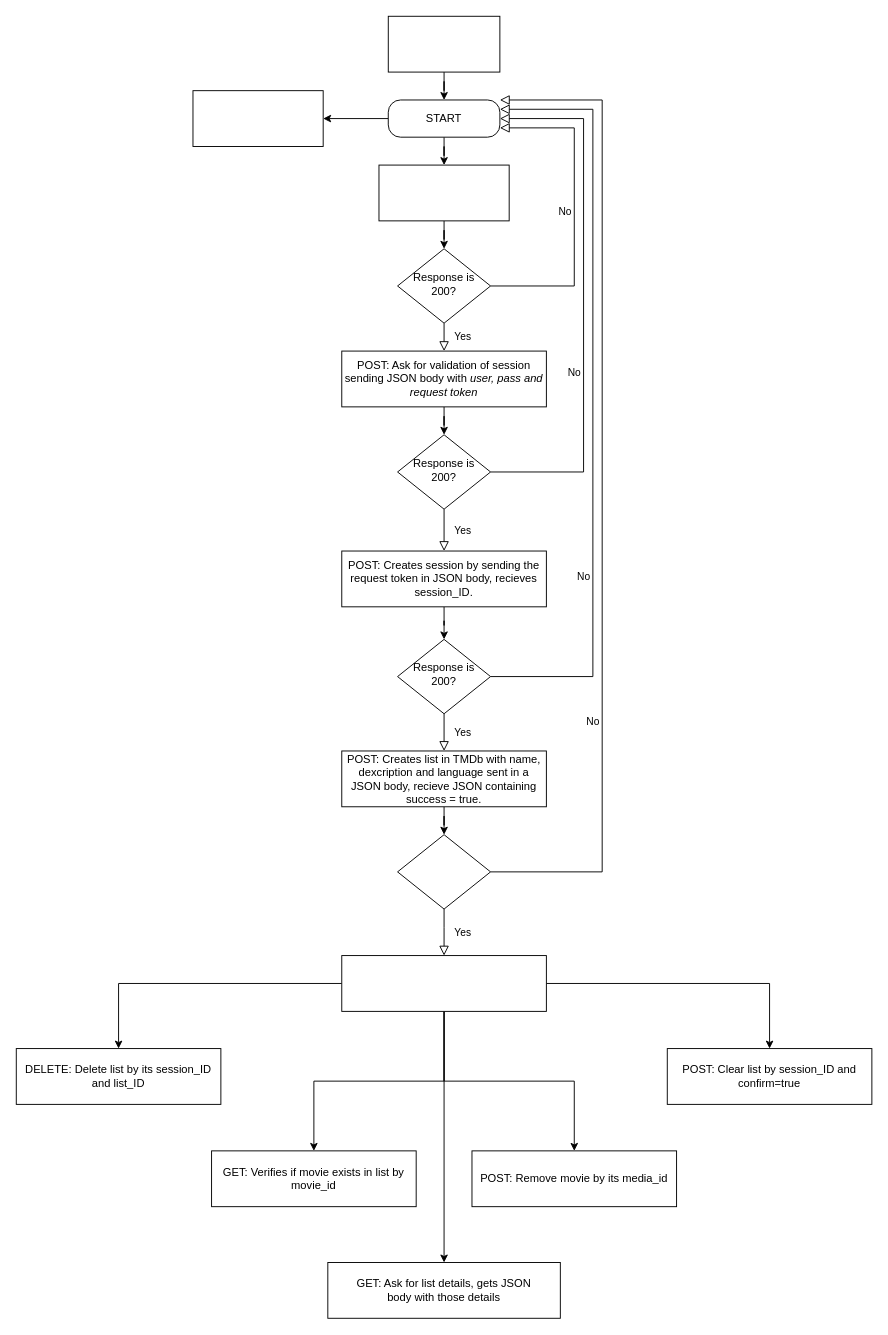
This 888x1335 diagram has some shape labels left out. The shapes that lost their labels are listed below. From the top down, each one's centre as x and y in pixels, then its label:
At [443,43]: "User with account in TMDb".
At [257,118]: "GET: Ask for guest session using api_key".
At [443,192]: "GET: Ask for request token using api_key".
At [444,871]: "Response is 201?".
At [443,983]: "POST: Add movie to list by media_id, list_ID and session_ID in a JSON body".
